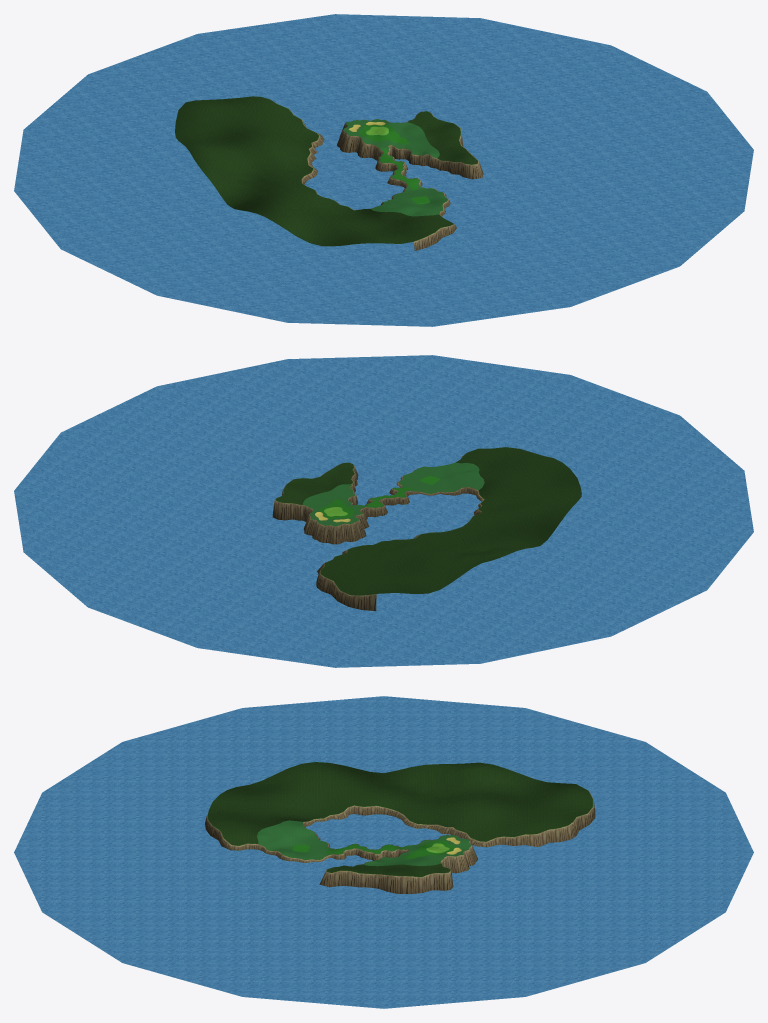
File: glf_map_fc9__glf_map_fc9.glb
3 renders of one model, top to bottom at view 1: azimuth 30°, elevation 25°; view 2: azimuth 150°, elevation 25°; view 3: azimuth 270°, elevation 25°, orthographic.
Visible parts, largest first — view 1: polygon8, polygon5, polygon4, polygon6, polygon2; view 2: polygon8, polygon5, polygon4, polygon6, polygon2; view 3: polygon8, polygon5, polygon4, polygon6, polygon2.
Boxes of the visible parts, box(x1,y1,x2,y2) form: polygon8: box(14, 14, 753, 326); polygon5: box(175, 96, 477, 246); polygon4: box(270, 99, 483, 250); polygon6: box(344, 119, 447, 216); polygon2: box(359, 124, 430, 204); polygon8: box(14, 355, 753, 667); polygon5: box(276, 447, 581, 595); polygon4: box(272, 453, 484, 611); polygon6: box(303, 462, 484, 525); polygon2: box(319, 476, 439, 518); polygon8: box(14, 696, 753, 1008); polygon5: box(207, 762, 592, 876); polygon4: box(205, 790, 595, 893); polygon6: box(257, 820, 470, 866); polygon2: box(292, 840, 455, 858).
Size of the model in its own units: 10850 by 319 by 10850.
Materials: 8 (8 with a texture image).
